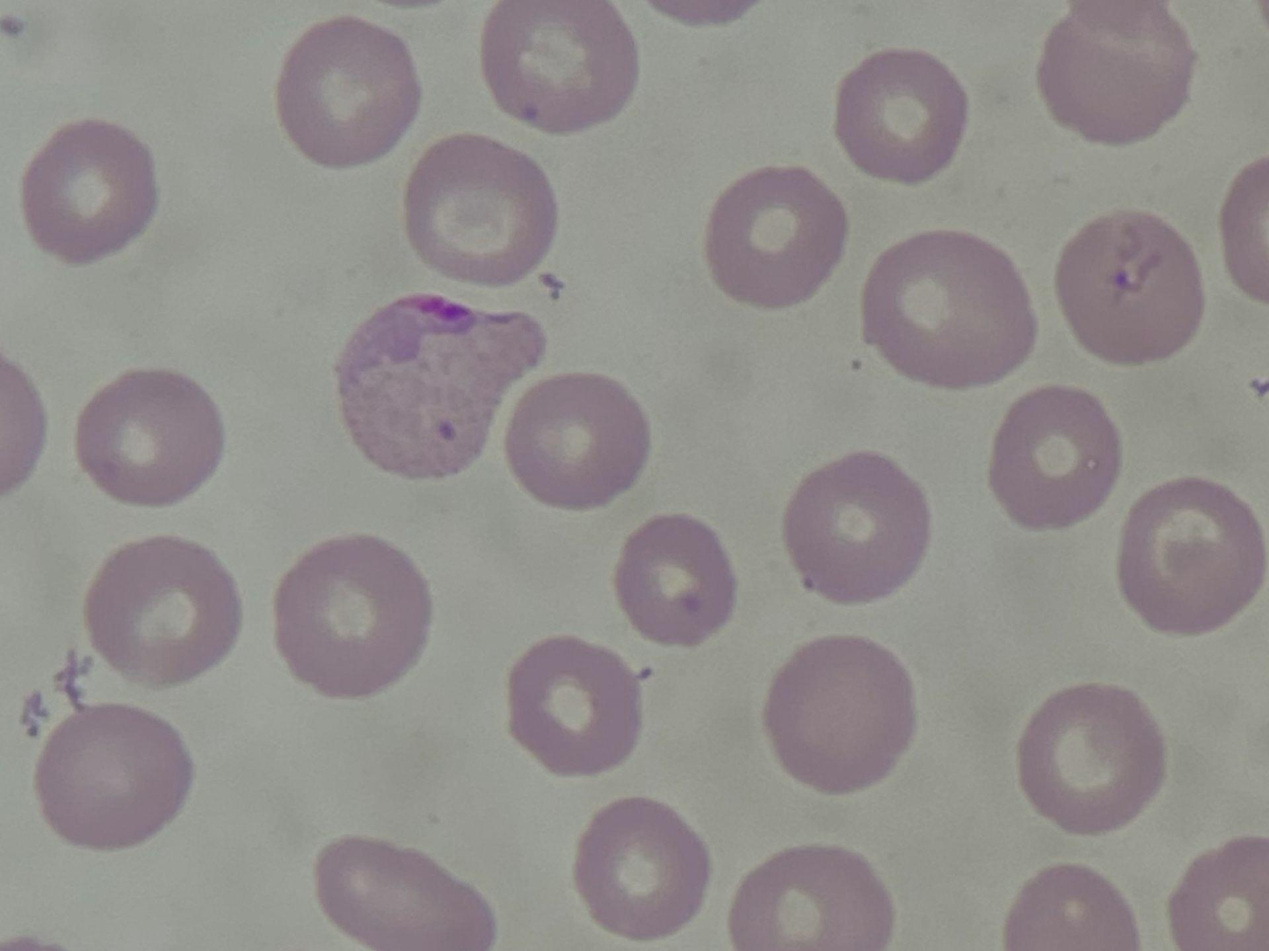Infected: (339, 294, 544, 483)
Uninfected: (271, 532, 430, 695), (864, 233, 1033, 383), (763, 641, 914, 793), (1016, 681, 1166, 834), (1119, 478, 1264, 635), (86, 537, 237, 681), (410, 133, 552, 286), (38, 707, 191, 849), (1059, 217, 1205, 365), (785, 453, 926, 606), (76, 365, 224, 509), (279, 17, 418, 169), (316, 835, 498, 951), (1036, 9, 1193, 143), (501, 369, 646, 513), (709, 164, 849, 308), (487, 0, 640, 131), (20, 124, 158, 264), (577, 795, 712, 935), (995, 389, 1121, 530), (730, 843, 894, 951), (838, 52, 971, 185), (511, 638, 639, 776), (1165, 836, 1269, 951), (1010, 863, 1143, 951)
